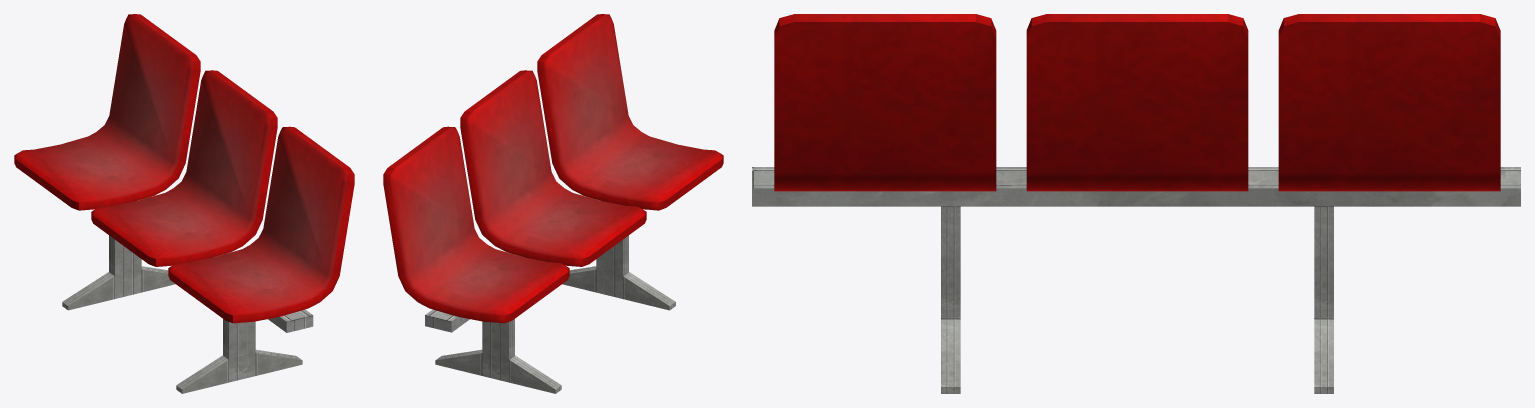
Rendered from Obj_WaitingBench.FBX.
3 views of the same model, side by side, from view 1: azimuth 30°, elevation 25°; view 2: azimuth 150°, elevation 25°; view 3: azimuth 270°, elevation 25° (orthographic). The views are drawn at different scales.
Visible parts, largest first — view 1: WaitingBench; view 2: WaitingBench; view 3: WaitingBench.
Boxes of the visible parts, bbox=[...] form: WaitingBench: bbox=[14, 14, 354, 393]; WaitingBench: bbox=[383, 14, 723, 393]; WaitingBench: bbox=[752, 14, 1520, 393].
Size of the model in its own units: 1.17 by 2.06 by 3.81.
